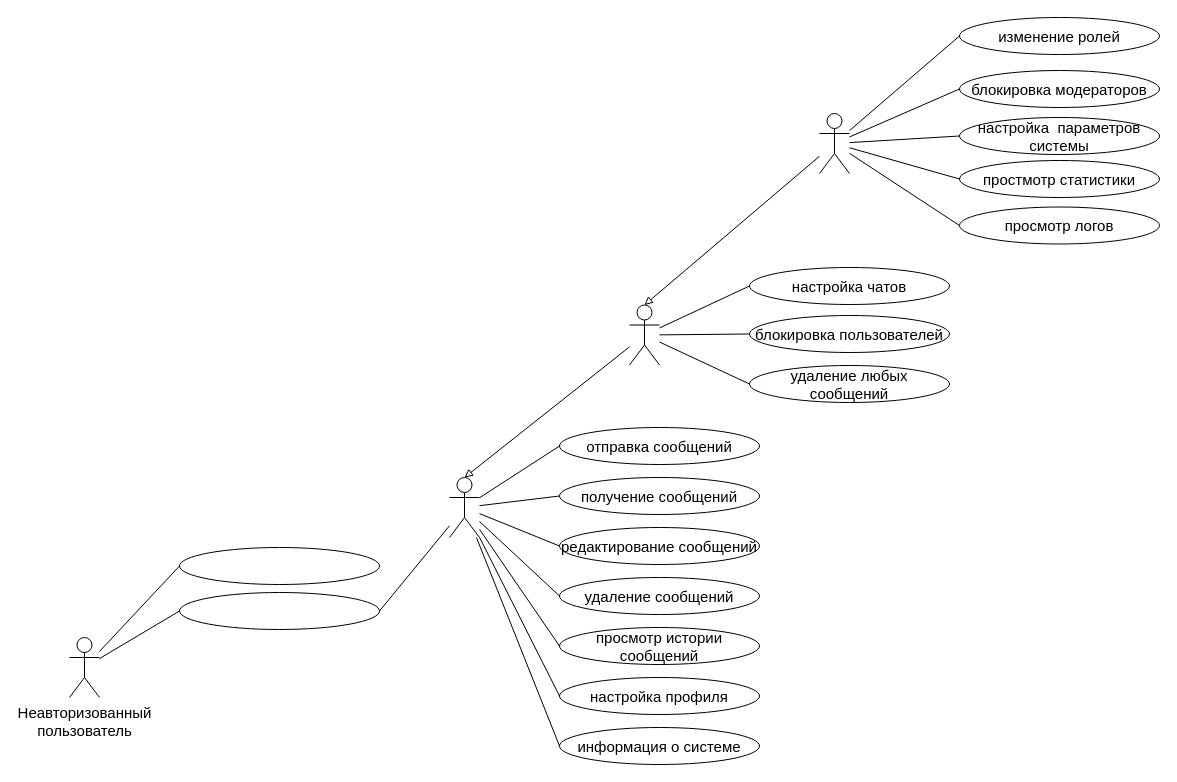
This 1177x782 diagram has some shape labels left out. Each missing label, with the centre of its shape:
"авторизация" goes at pixel 279 611.
"Администратор" goes at pixel 834 143.
"Модератор" goes at pixel 644 334.
"Пользователь" goes at pixel 464 507.
"регистрация" goes at pixel 279 565.
